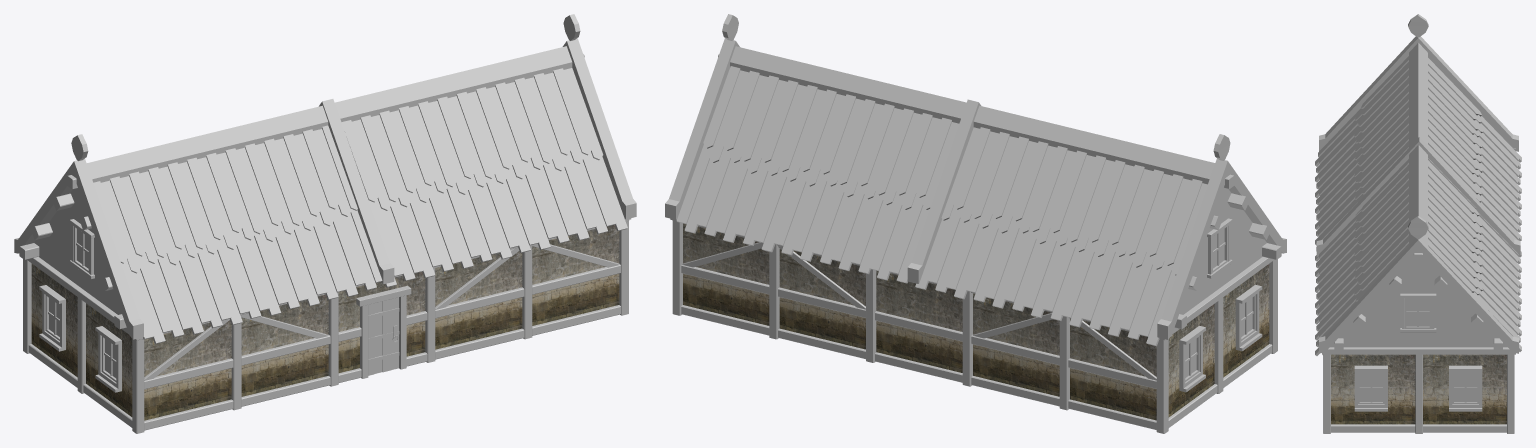
File: Building-10.fbx
3 renders of one model, left to right at view 1: azimuth 30°, elevation 25°; view 2: azimuth 150°, elevation 25°; view 3: azimuth 270°, elevation 25°, orthographic. The views are drawn at different scales.
Parts seen in each view (by area): view 1: Plane.029; view 2: Plane.029; view 3: Plane.029.
Boxes of the visible parts, <box> form: Plane.029: <box>14,14,636,433</box>; Plane.029: <box>665,14,1286,433</box>; Plane.029: <box>1315,14,1521,433</box>.
Size of the model in its own units: 1586 by 765 by 661.
